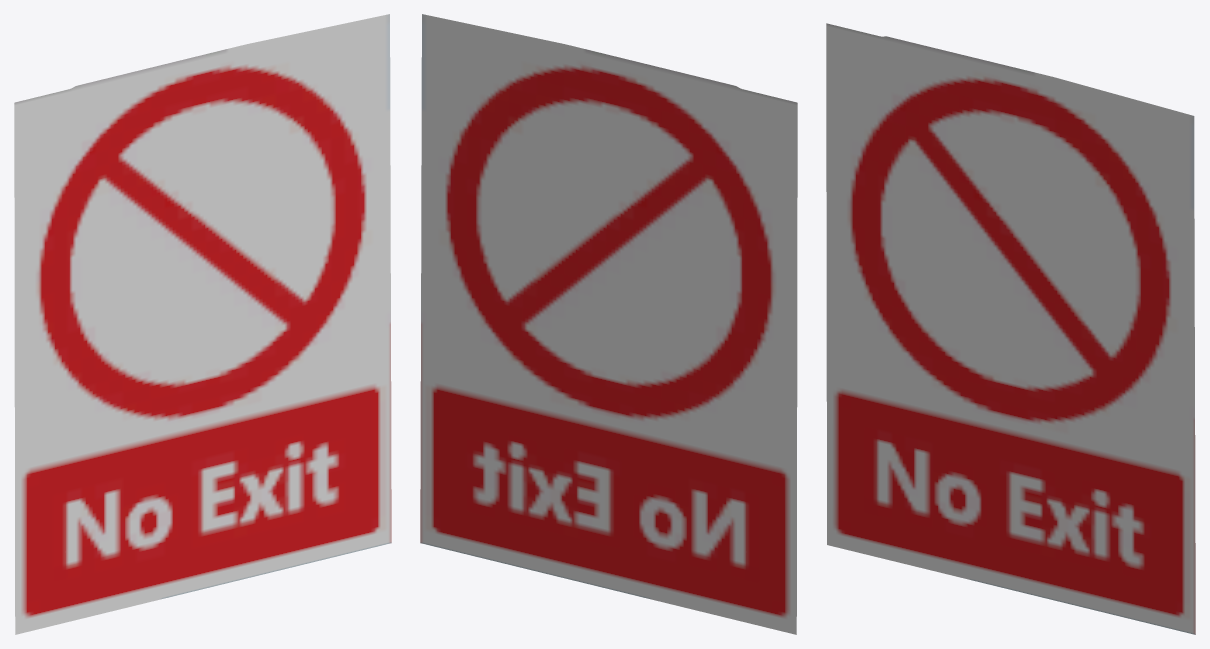
File: SM_Sign_No_Exit_01.glb
3 renders of one model, left to right at view 1: azimuth 30°, elevation 25°; view 2: azimuth 150°, elevation 25°; view 3: azimuth 330°, elevation 25°, orthographic. The views are drawn at different scales.
Parts seen in each view (by area): view 1: SM_Sign_No_Exit_01; view 2: SM_Sign_No_Exit_01; view 3: SM_Sign_No_Exit_01.
Boxes of the visible parts, x1=… form: SM_Sign_No_Exit_01: x1=14, y1=14, x2=391, y2=634; SM_Sign_No_Exit_01: x1=420, y1=14, x2=797, y2=634; SM_Sign_No_Exit_01: x1=826, y1=23, x2=1195, y2=634.
Bounding box in the file's own units: 0.243 × 0.3335 × 5.49e-08.
1 material, 1 textured.
